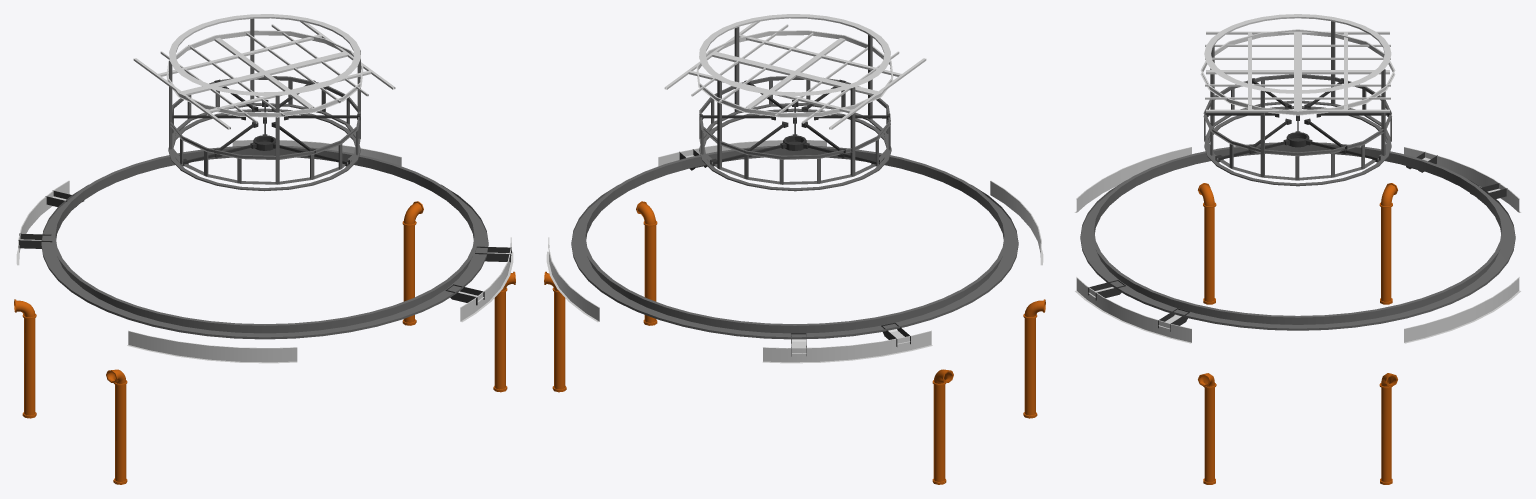
Rendered from SM_H_Building_Tide_MainShaft_02e_ATLAS.fbx.
The picture shows the model from 3 angles, left to right: view 1: azimuth 30°, elevation 25°; view 2: azimuth 150°, elevation 25°; view 3: azimuth 270°, elevation 25°; orthographic projection. The views are drawn at different scales.
Visible parts, largest first — view 1: SM_H_Building_Tide_MainShaft_02e_ATLAS; view 2: SM_H_Building_Tide_MainShaft_02e_ATLAS; view 3: SM_H_Building_Tide_MainShaft_02e_ATLAS.
Boxes of the visible parts, left/top/right/bottom form: SM_H_Building_Tide_MainShaft_02e_ATLAS: left=14, top=14, right=515, bottom=484; SM_H_Building_Tide_MainShaft_02e_ATLAS: left=544, top=14, right=1045, bottom=484; SM_H_Building_Tide_MainShaft_02e_ATLAS: left=1074, top=14, right=1521, bottom=484.
Size of the model in its own units: 3251 by 3168 by 2647.
